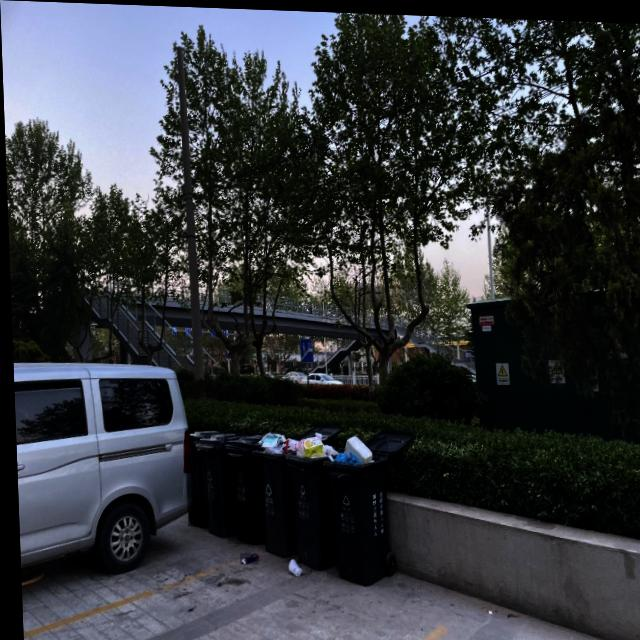garbage: (283, 557, 298, 573), (236, 551, 254, 563)
garbage_bin: (191, 429, 240, 536), (220, 430, 262, 543), (181, 427, 219, 526)
overflow: (318, 432, 389, 584), (281, 427, 333, 569), (247, 429, 292, 554)
